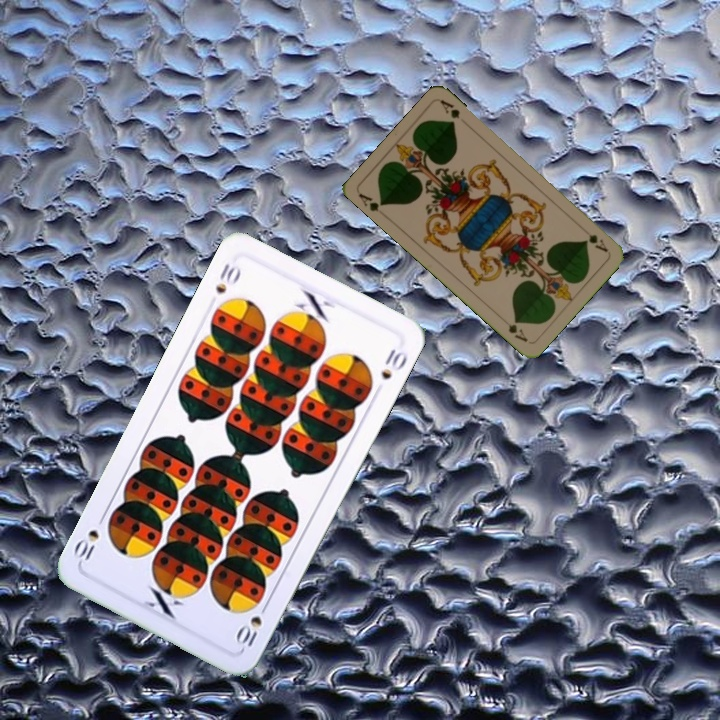GA: (578, 224, 610, 255), (354, 189, 388, 215)
S10: (232, 598, 272, 650), (211, 258, 244, 296)
